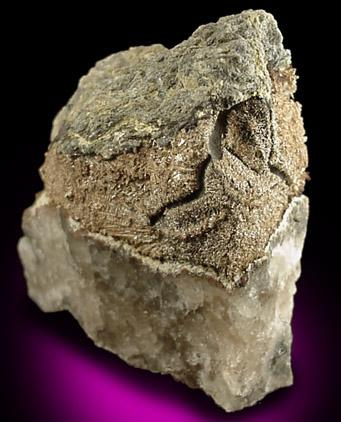silver: (40, 10, 308, 286)
